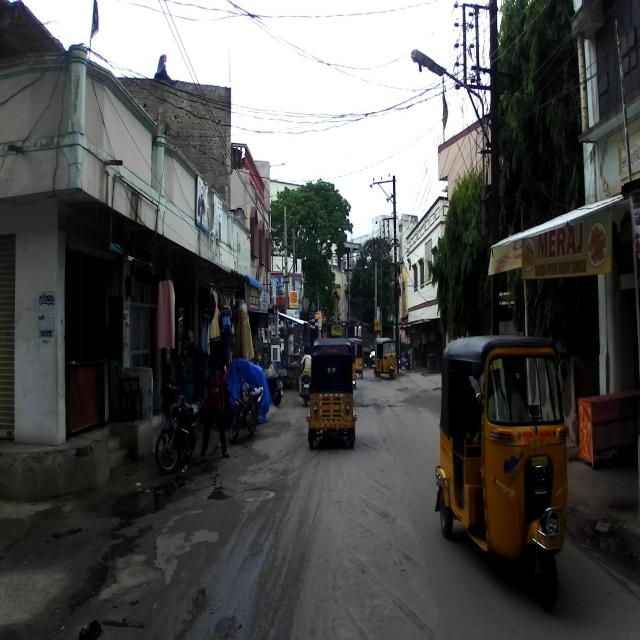autorickshaw: (433, 334, 570, 611), (306, 338, 357, 448)
motorcycle_Hero: (154, 387, 203, 472)
motorcycle_Honda: (228, 365, 263, 442)
